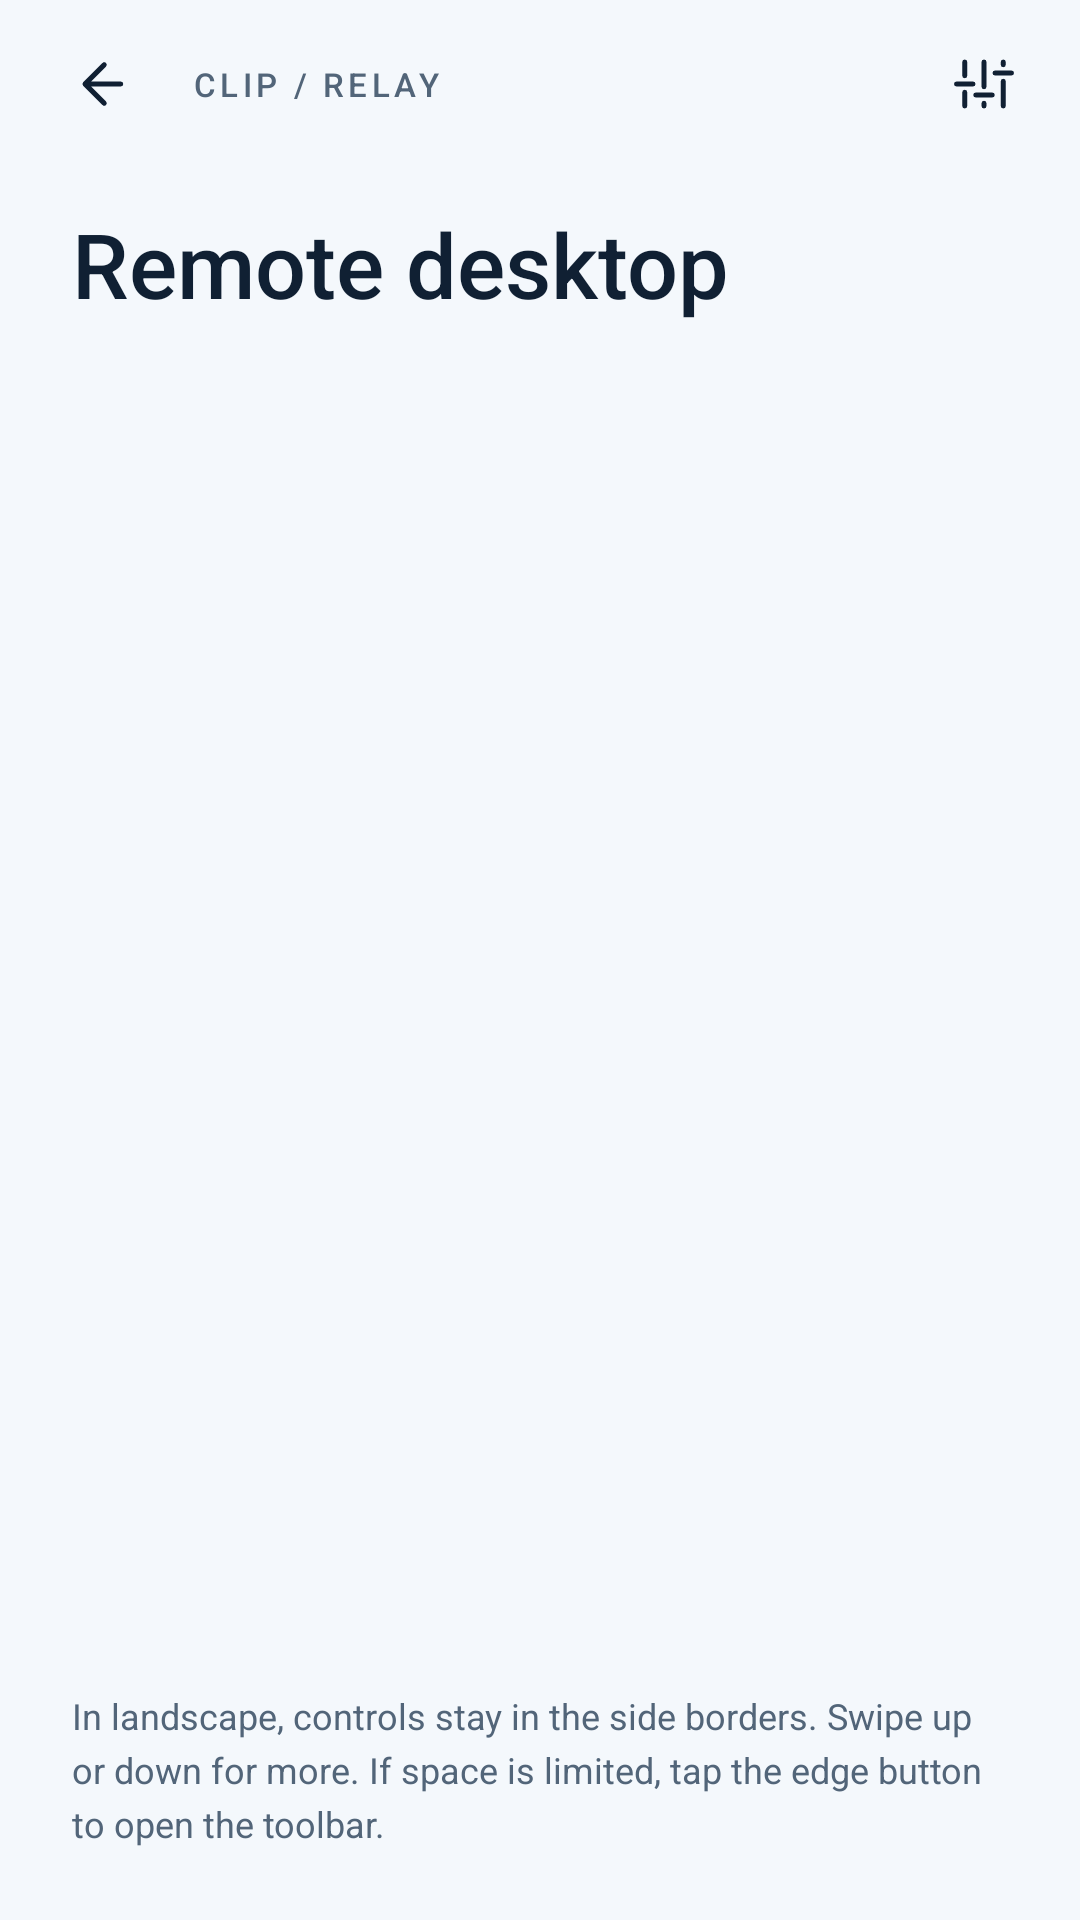

Point at icon controls on the screen. Image size 1080×1920, points as (x=x, y=y).
Back: (x=102, y=84)
Stream settings: (x=984, y=84)
